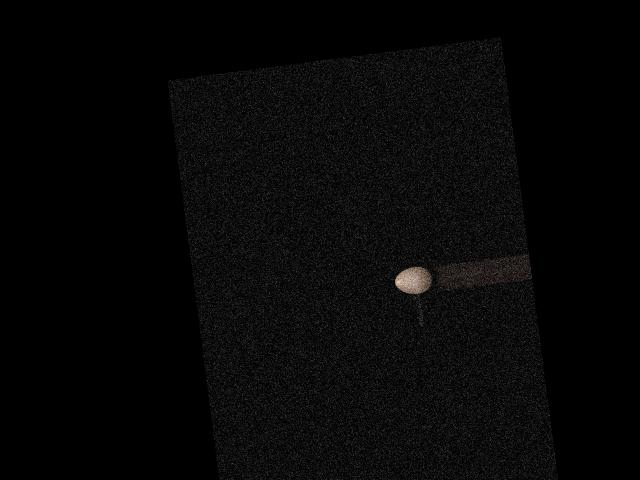egg: (393, 264, 433, 295)
